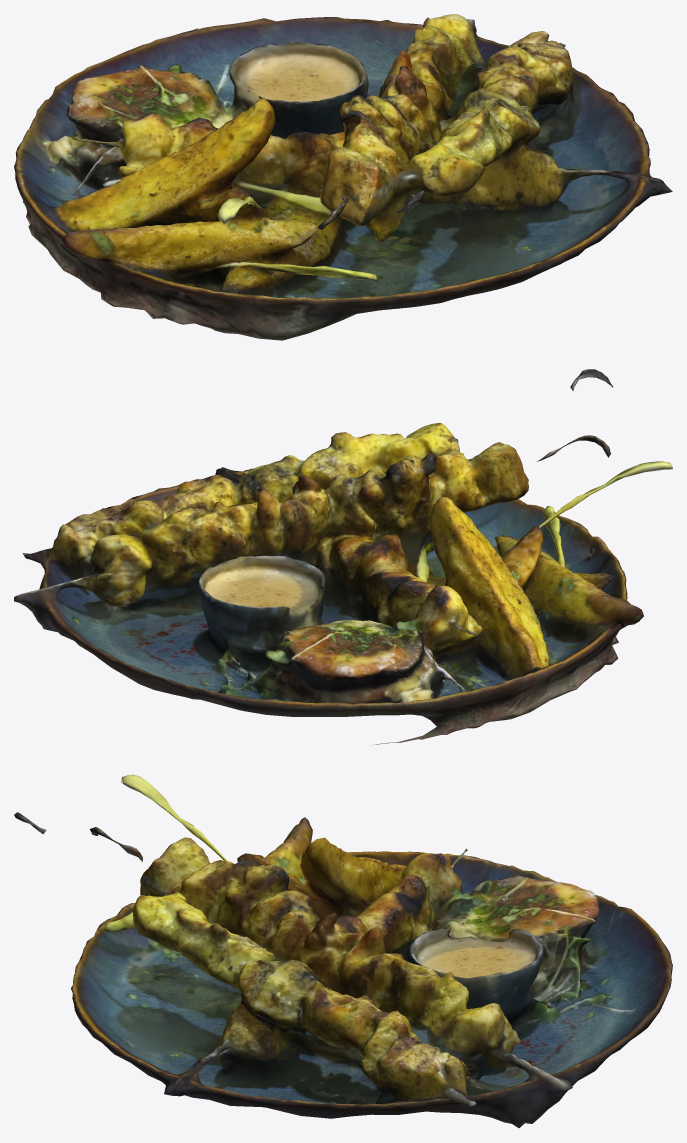
File: brochettes-de-poulet.ar.glb
3 views of the same model, one above another, from view 1: azimuth 30°, elevation 25°; view 2: azimuth 150°, elevation 25°; view 3: azimuth 270°, elevation 25° (orthographic). The views are drawn at different scales.
Parts seen in each view (by area): view 1: /ObjectCapture/Geometry/Mesh; view 2: /ObjectCapture/Geometry/Mesh; view 3: /ObjectCapture/Geometry/Mesh.
Boxes of the visible parts, left/top/right/bottom form: /ObjectCapture/Geometry/Mesh: left=14, top=14, right=672, bottom=340; /ObjectCapture/Geometry/Mesh: left=14, top=369, right=672, bottom=745; /ObjectCapture/Geometry/Mesh: left=14, top=774, right=672, bottom=1127.
Bounding box in the file's own units: 0.2914 × 0.0832 × 0.297.
1 material, 1 textured.
